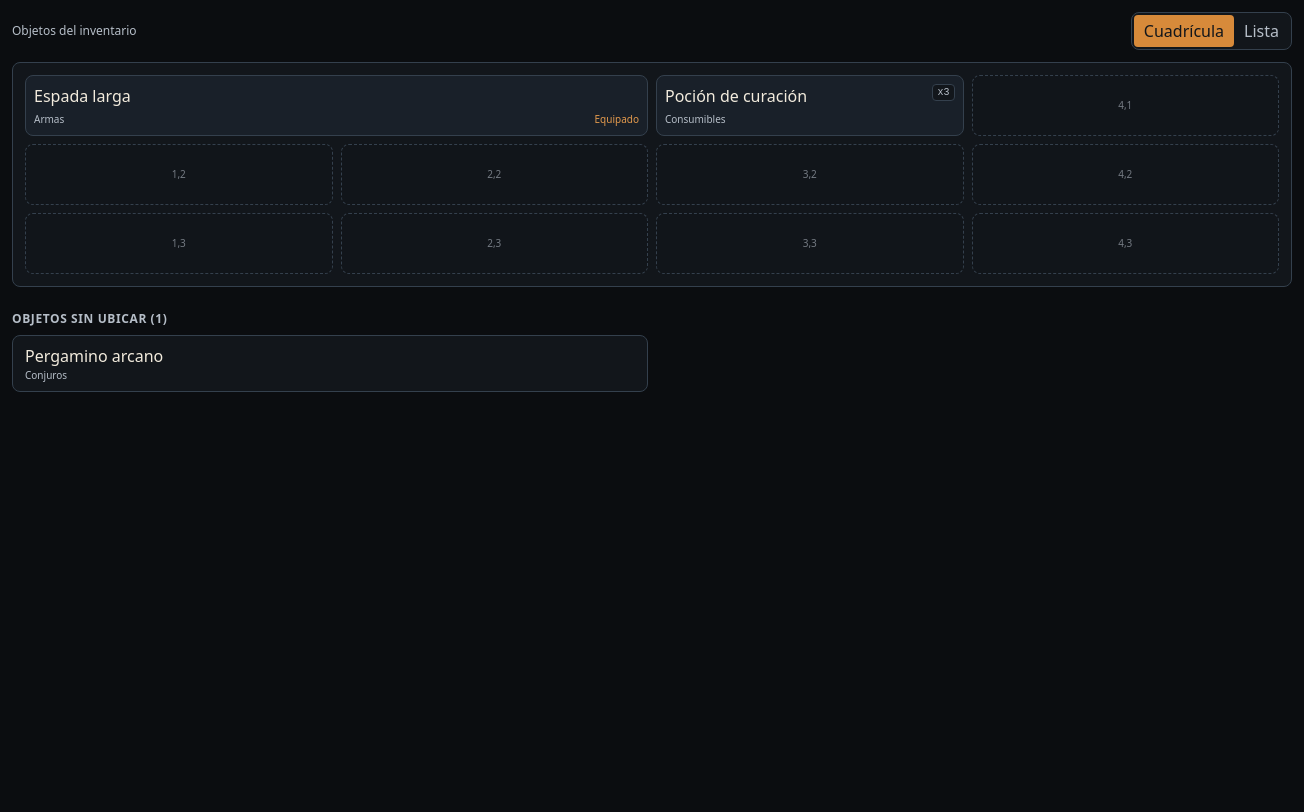
Test: InventoryGrid — spatial presentation and fallback › handles non-drag accessible move flow when destination is valid
The width and height of the screenshot is (1304, 812).
What coordinates should you click on to do the following:
click the button "Espada larga Armas Equipado"
I would click on:
 (82, 96)
Its box is left=25, top=75, right=648, bottom=136.
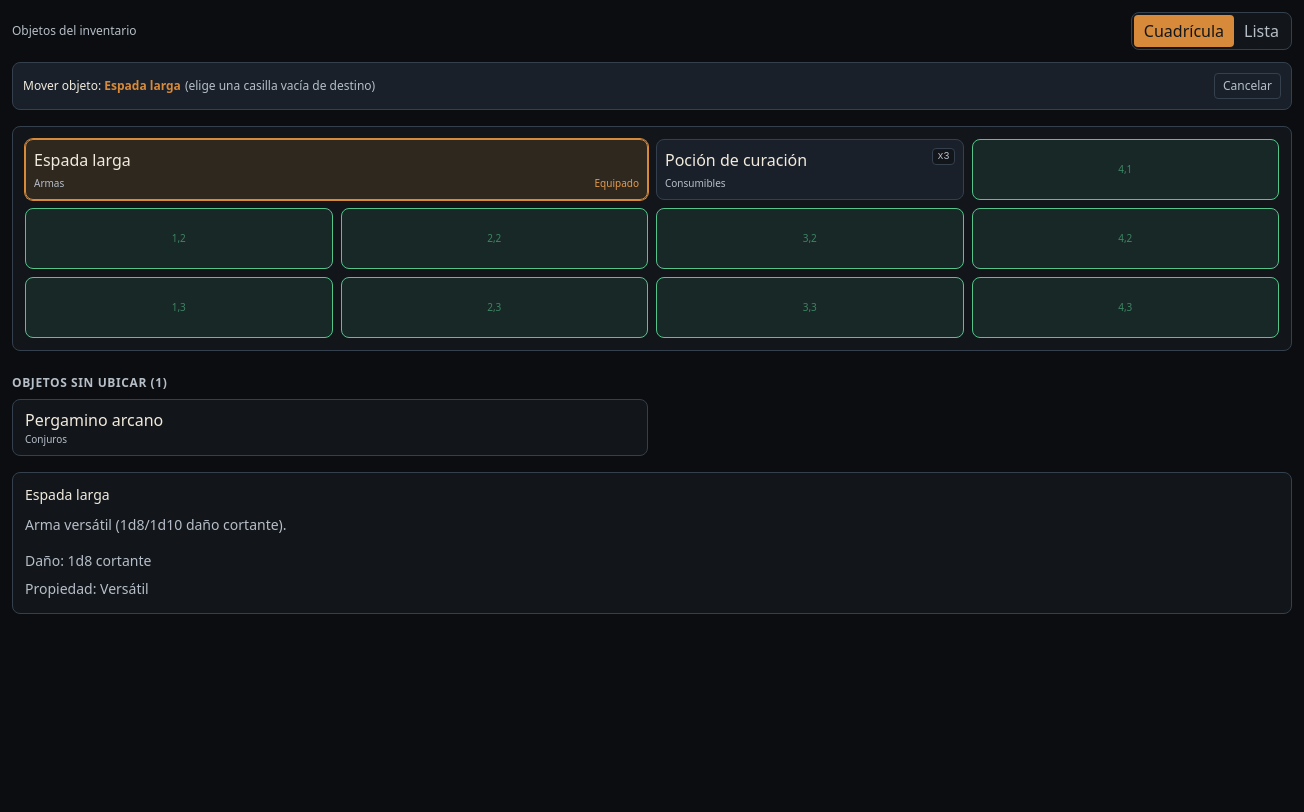
Expected: the text "Mover objeto:" is shown, left=23, top=77, right=101, bottom=94
What coordinates should you click on to do the following:
click the button named "Casilla columna 4, fila 2: destino disponible"
I would click on:
 (1125, 238)
Its box is left=972, top=208, right=1279, bottom=269.
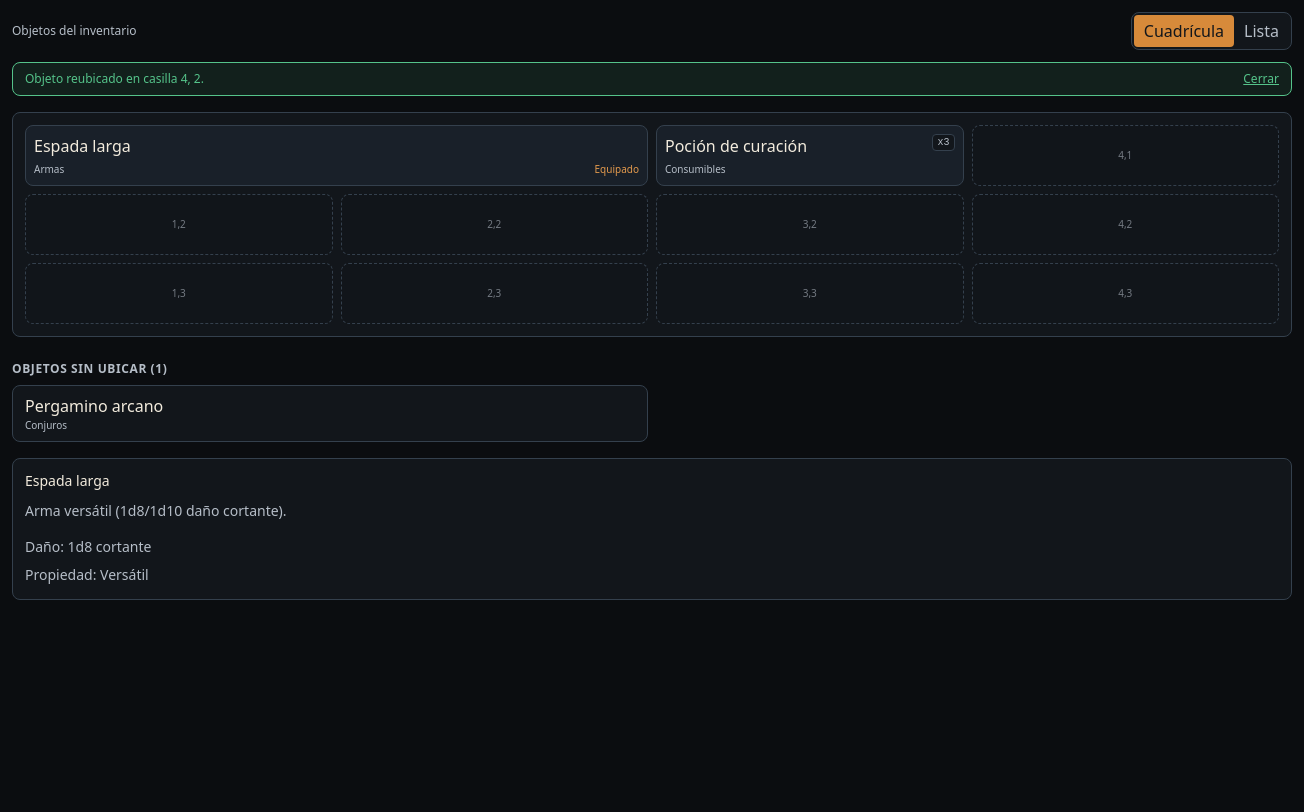
Expected: the message shows "Objeto reubicado en casilla 4, 2.", left=25, top=70, right=204, bottom=87
Expected: the text "Mover objeto:" is gone
